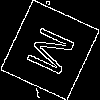M: (25, 25, 86, 82)
